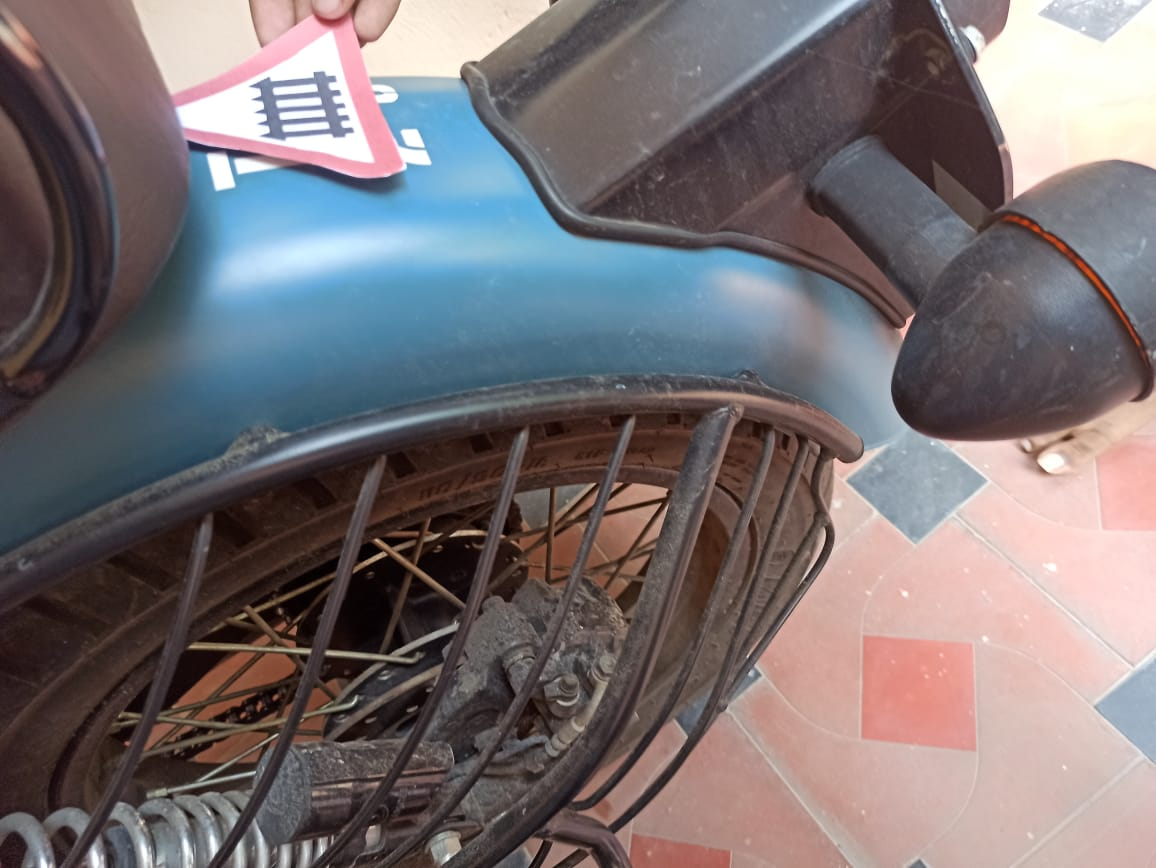GUARDED LEVEL CROSSING: (162, 2, 433, 191)
